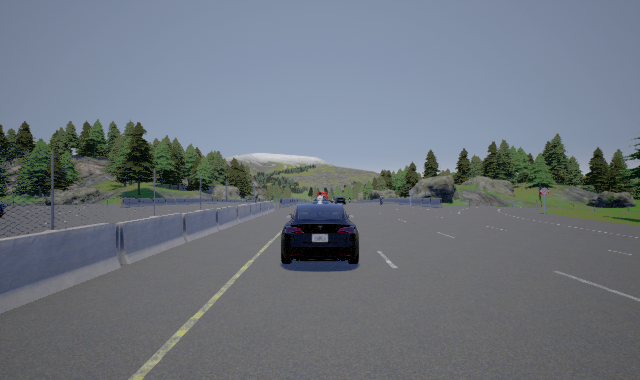traffic_sign: (540, 187, 549, 195)
vehicle: (281, 203, 361, 264)
